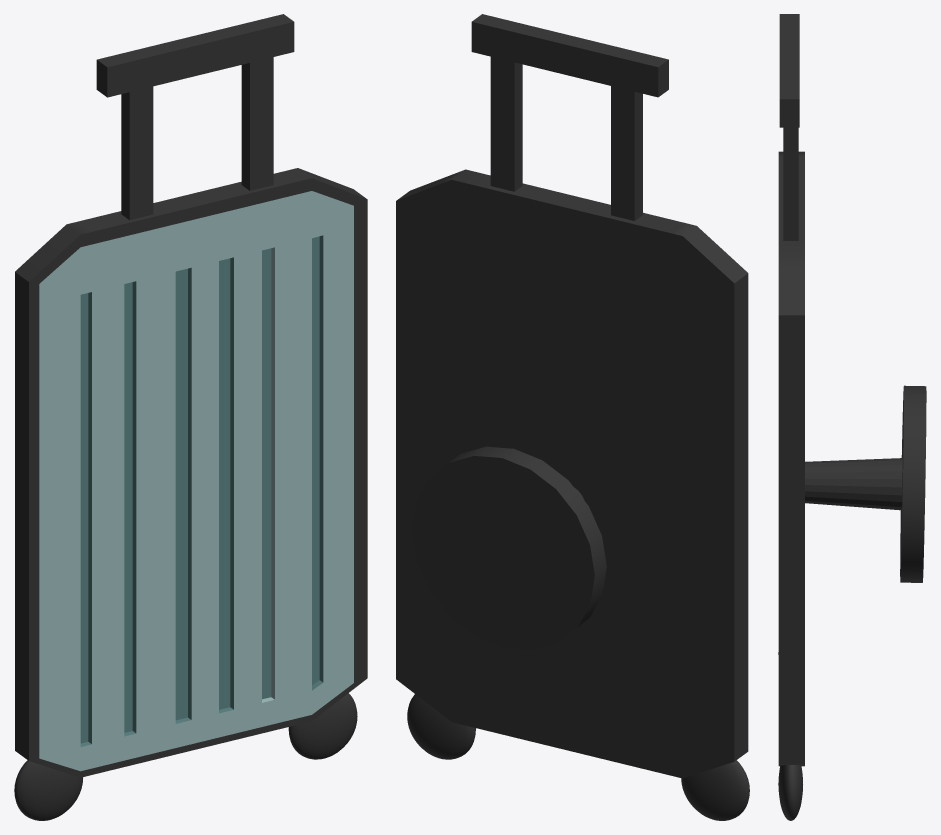
File: suitcase.fbx
The picture shows the model from 3 angles, left to right: view 1: azimuth 30°, elevation 25°; view 2: azimuth 150°, elevation 25°; view 3: azimuth 270°, elevation 25°; orthographic projection. The views are drawn at different scales.
Visible parts, largest first — view 1: pCube8; view 2: pCube8; view 3: pCube8.
Boxes of the visible parts, x1,y1,x2,y2 form: pCube8: [14, 14, 367, 820]; pCube8: [396, 14, 749, 820]; pCube8: [778, 14, 926, 820].
Size of the model in its own units: 2.96 by 6.13 by 1.17.
